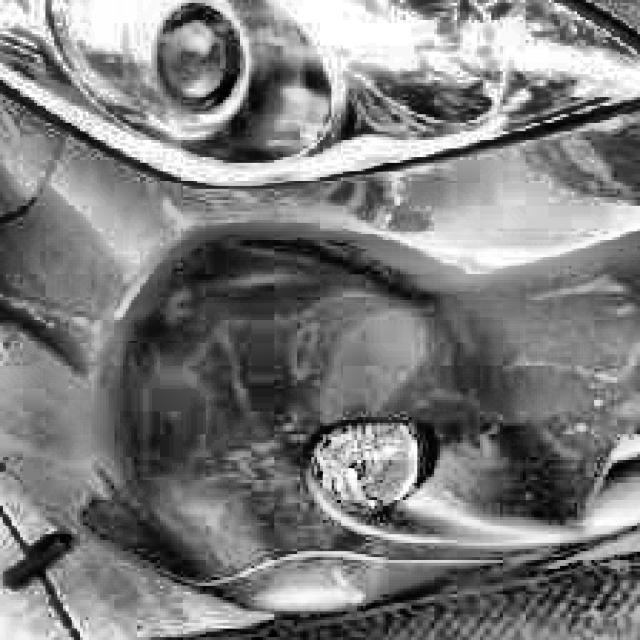bumper_dent: (106, 224, 573, 582)
